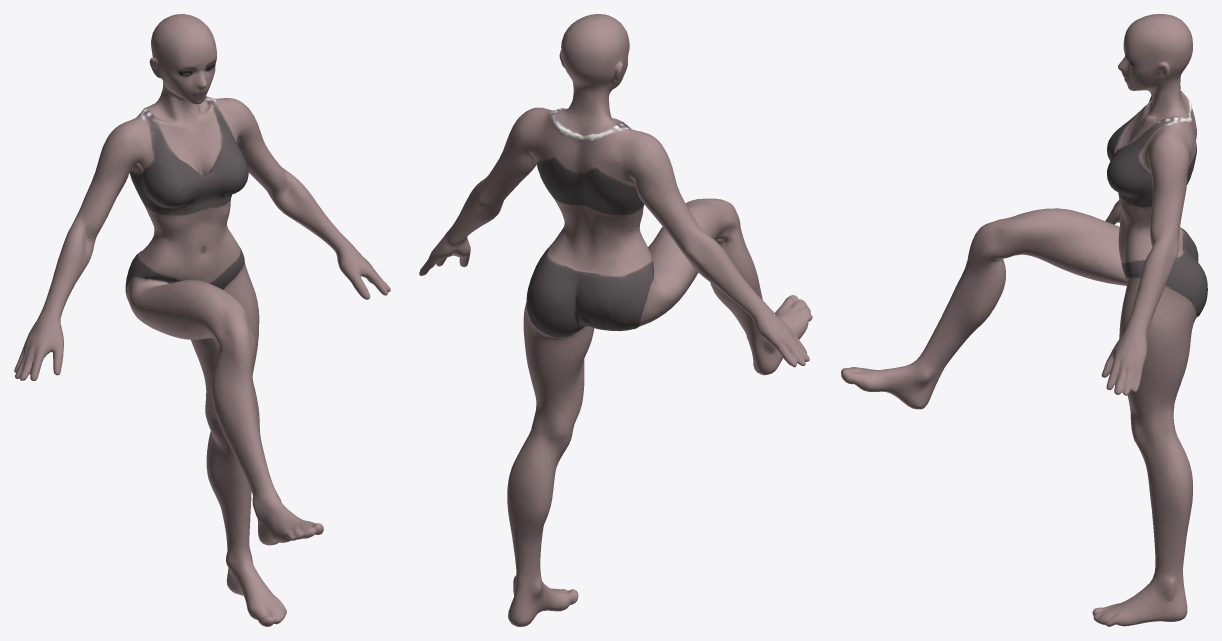
File: coordinated-ThighL-90.glb
The picture shows the model from 3 angles, left to right: view 1: azimuth 30°, elevation 25°; view 2: azimuth 150°, elevation 25°; view 3: azimuth 270°, elevation 25°; orthographic projection. The views are drawn at different scales.
Parts seen in each view (by area): view 1: coordinated-ThighL-90; view 2: coordinated-ThighL-90; view 3: coordinated-ThighL-90.
Part boxes in pixels (x1,y1,x2,y2): coordinated-ThighL-90: [14, 14, 390, 626]; coordinated-ThighL-90: [419, 14, 812, 626]; coordinated-ThighL-90: [841, 14, 1207, 626].
Bounding box in the file's own units: 0.6509 × 1 × 0.5776.
1 material, 1 textured.
